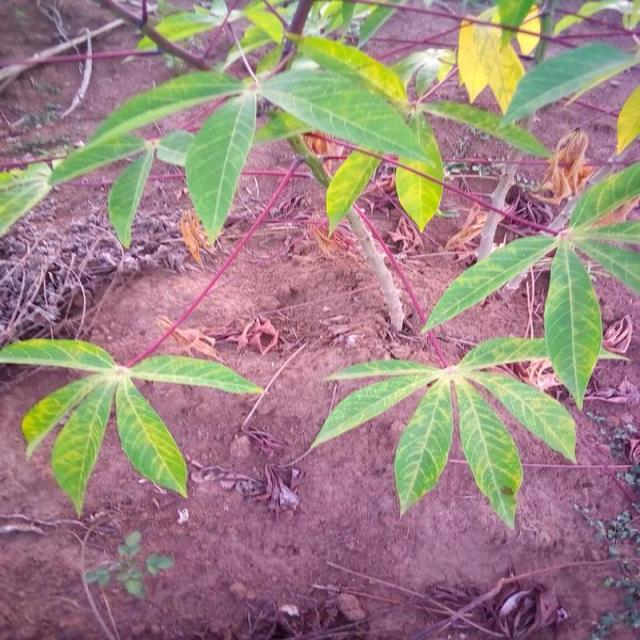cassava leaf: (311, 334, 578, 530), (185, 90, 258, 245), (544, 239, 604, 411), (395, 111, 446, 232)
